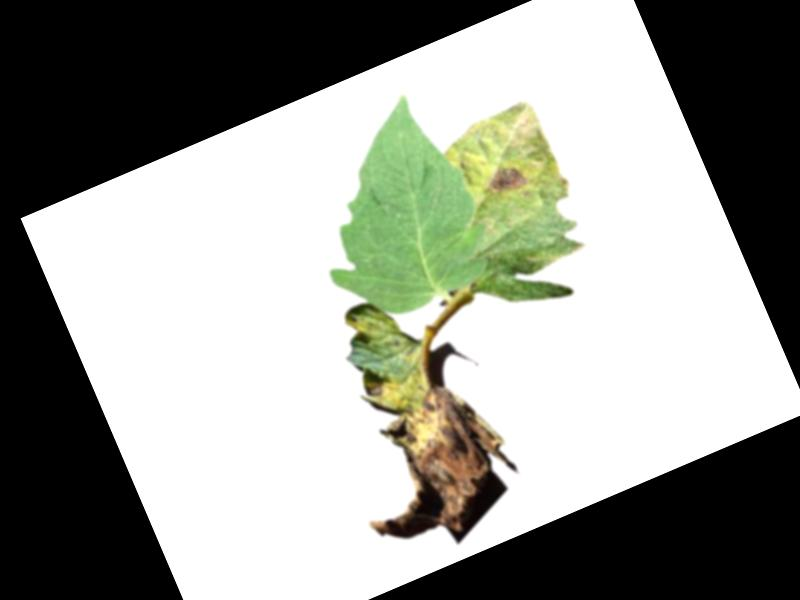Early_blight: (313, 341, 531, 565), (483, 156, 530, 198)
healthy: (272, 82, 503, 336)
